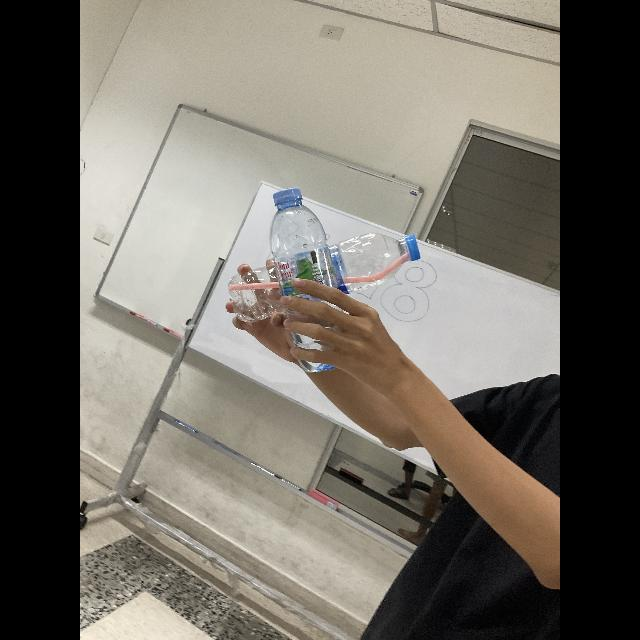plastic_bottle: (228, 233, 420, 323), (270, 186, 346, 372)
plastic_bottle_cap: (273, 187, 303, 207), (404, 234, 420, 262)
straw: (228, 254, 408, 290)
